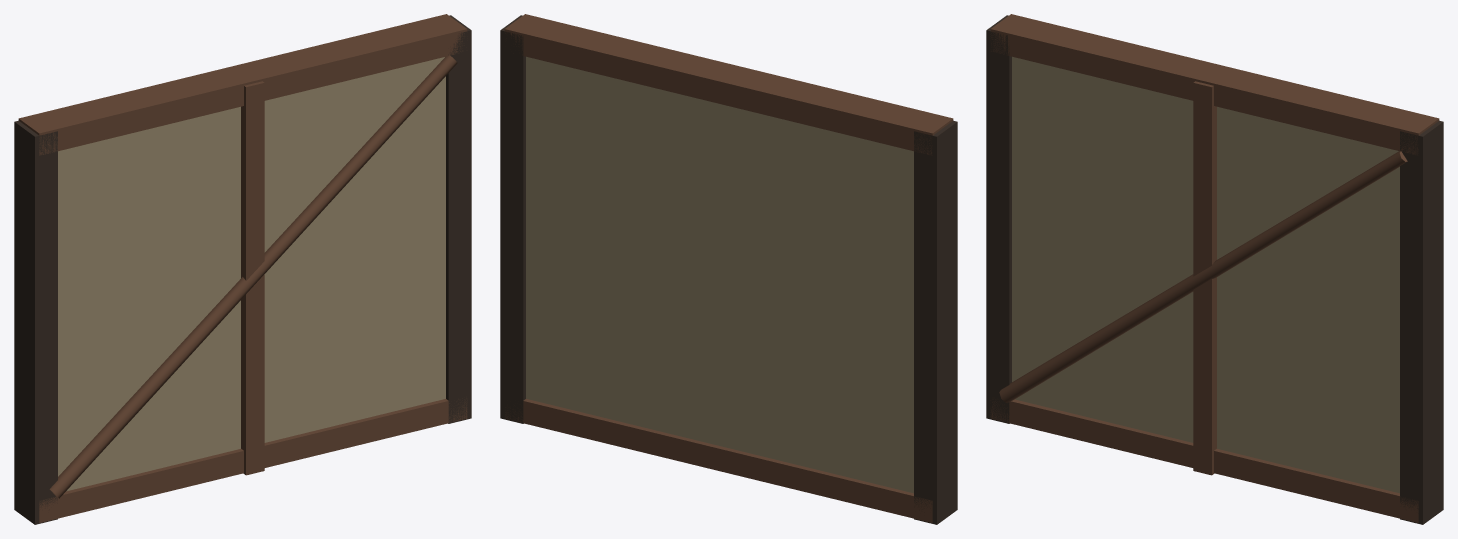
The model's file is Wall_Solid.glb.
3 views of the same model, side by side, from view 1: azimuth 30°, elevation 25°; view 2: azimuth 150°, elevation 25°; view 3: azimuth 330°, elevation 25° (orthographic).
Parts seen in each view (by area): view 1: _MeshInstance3D_3861, _MeshInstance3D_3867, _MeshInstance3D_3864, _MeshInstance3D_3866, _MeshInstance3D_3865, _MeshInstance3D_3862, _MeshInstance3D_3863; view 2: _MeshInstance3D_3861, _MeshInstance3D_3867, _MeshInstance3D_3864, _MeshInstance3D_3866, _MeshInstance3D_3865; view 3: _MeshInstance3D_3861, _MeshInstance3D_3867, _MeshInstance3D_3865, _MeshInstance3D_3866, _MeshInstance3D_3864, _MeshInstance3D_3862, _MeshInstance3D_3863.
Boxes of the visible parts, x1,y1,x2,y2 form: _MeshInstance3D_3861: (58, 57, 445, 491); _MeshInstance3D_3867: (18, 14, 467, 155); _MeshInstance3D_3864: (14, 120, 57, 524); _MeshInstance3D_3866: (39, 398, 467, 522); _MeshInstance3D_3865: (446, 15, 471, 423); _MeshInstance3D_3862: (241, 81, 264, 475); _MeshInstance3D_3863: (49, 55, 457, 498); _MeshInstance3D_3861: (526, 56, 913, 493); _MeshInstance3D_3867: (504, 14, 953, 155); _MeshInstance3D_3864: (914, 120, 957, 524); _MeshInstance3D_3866: (505, 399, 932, 522); _MeshInstance3D_3865: (500, 15, 525, 423); _MeshInstance3D_3861: (1012, 56, 1399, 493); _MeshInstance3D_3867: (990, 14, 1439, 155); _MeshInstance3D_3865: (1400, 120, 1443, 524); _MeshInstance3D_3866: (990, 399, 1418, 522); _MeshInstance3D_3864: (986, 15, 1011, 423); _MeshInstance3D_3862: (1193, 81, 1216, 475); _MeshInstance3D_3863: (999, 151, 1407, 402).
Size of the model in its own units: 3.06 by 2.61 by 0.295.
